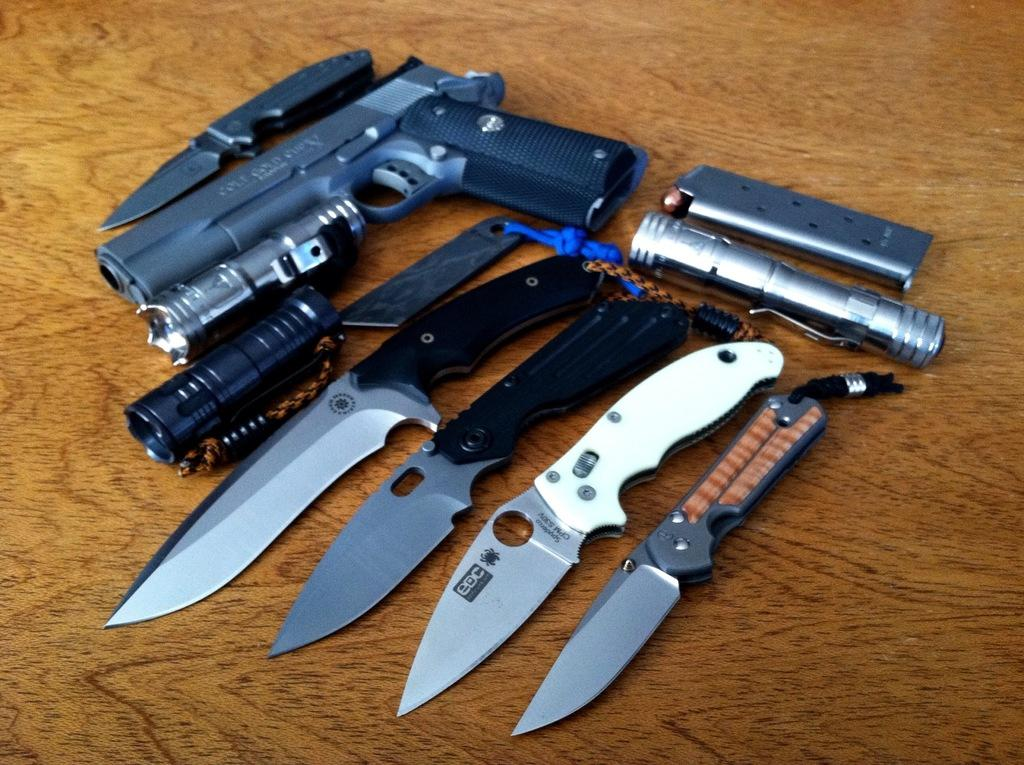Knife: (99, 253, 609, 630), (273, 300, 697, 655), (508, 372, 904, 738), (400, 344, 783, 710), (95, 46, 371, 234)
